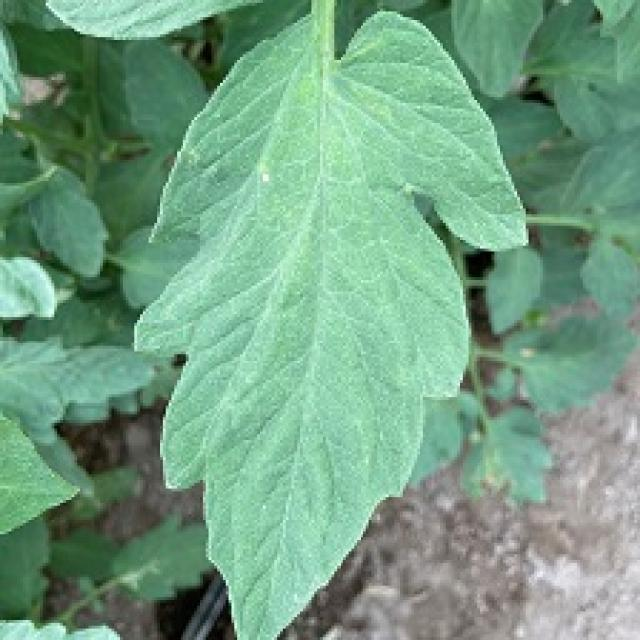Healthy: (28, 0, 583, 640)
